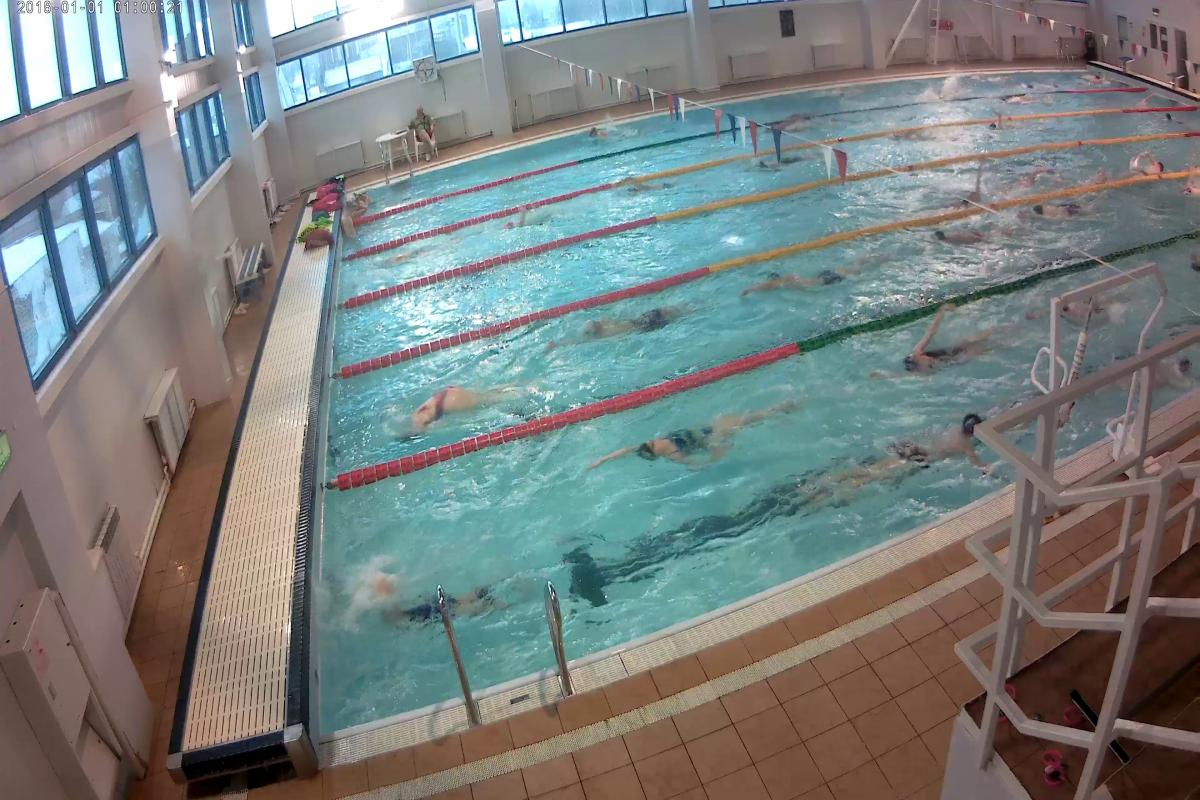swimmer: (596, 400, 794, 469), (867, 417, 980, 487), (357, 576, 498, 628), (877, 326, 994, 383), (390, 378, 493, 438), (561, 306, 686, 342), (745, 266, 852, 306), (929, 220, 1015, 250), (1040, 190, 1112, 225), (1126, 148, 1172, 176)
